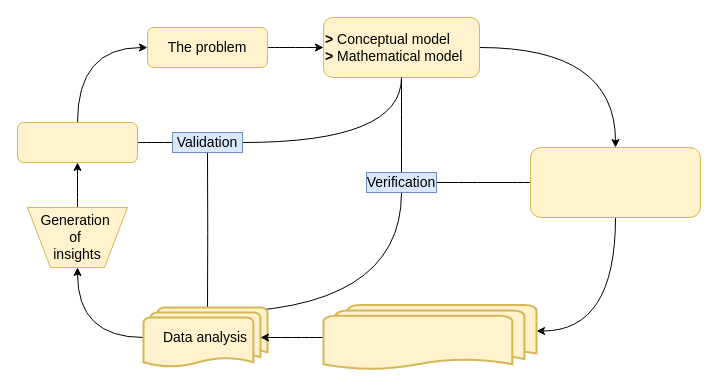
Some shapes in this 718 by 388 pixel diagram are drawn without their labels. Here are the shapes that lost their labels. From the top down, the centre of each, then its label:
(x=77, y=142): Real world experiment
(x=615, y=182): > Algorithm development > Simulation program
(x=429, y=337): > Program execution > Outputs management
